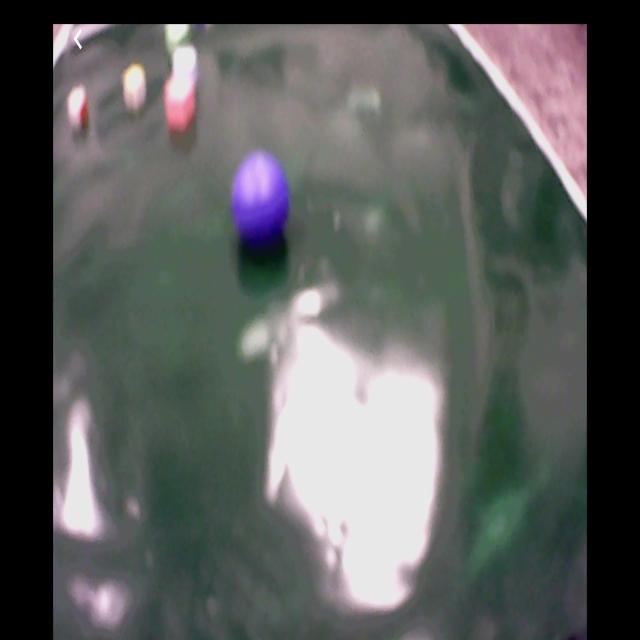ball: (231, 153, 290, 242)
